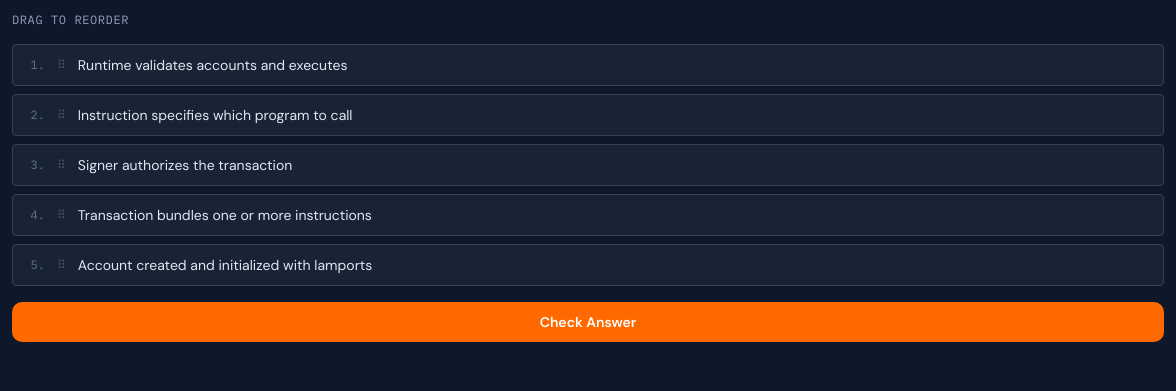
SequenceCompleter — shows 'Order locked' message after submit › shows lock message after submission
The image size is (1176, 391).
Click the button "Check Answer". click: (588, 322)
box: [12,302,1164,342]
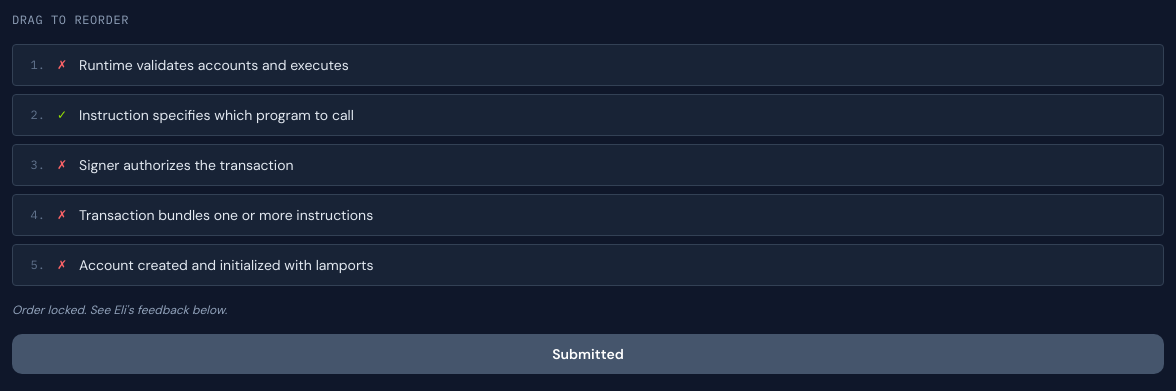
Result: the text "Order locked. See Eli's feedback below." is shown at [12,302,227,318]
